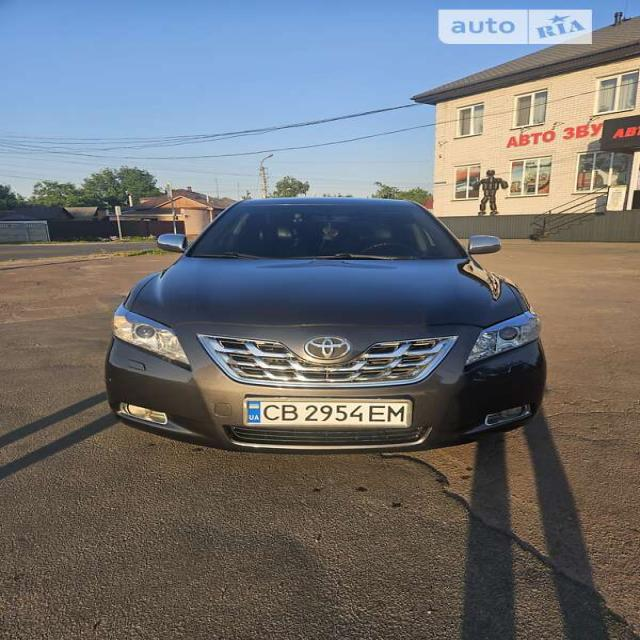plate: (240, 393, 428, 440)
